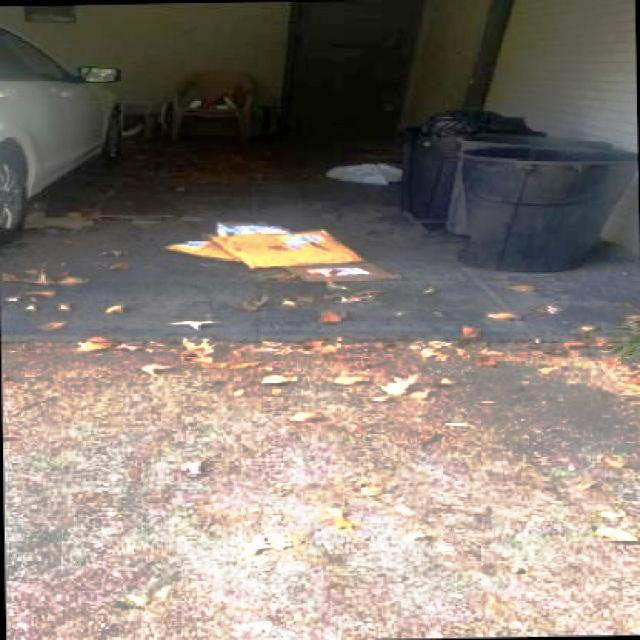Box: (210, 228, 365, 269), (286, 262, 400, 282), (162, 238, 238, 262), (215, 220, 294, 235)
